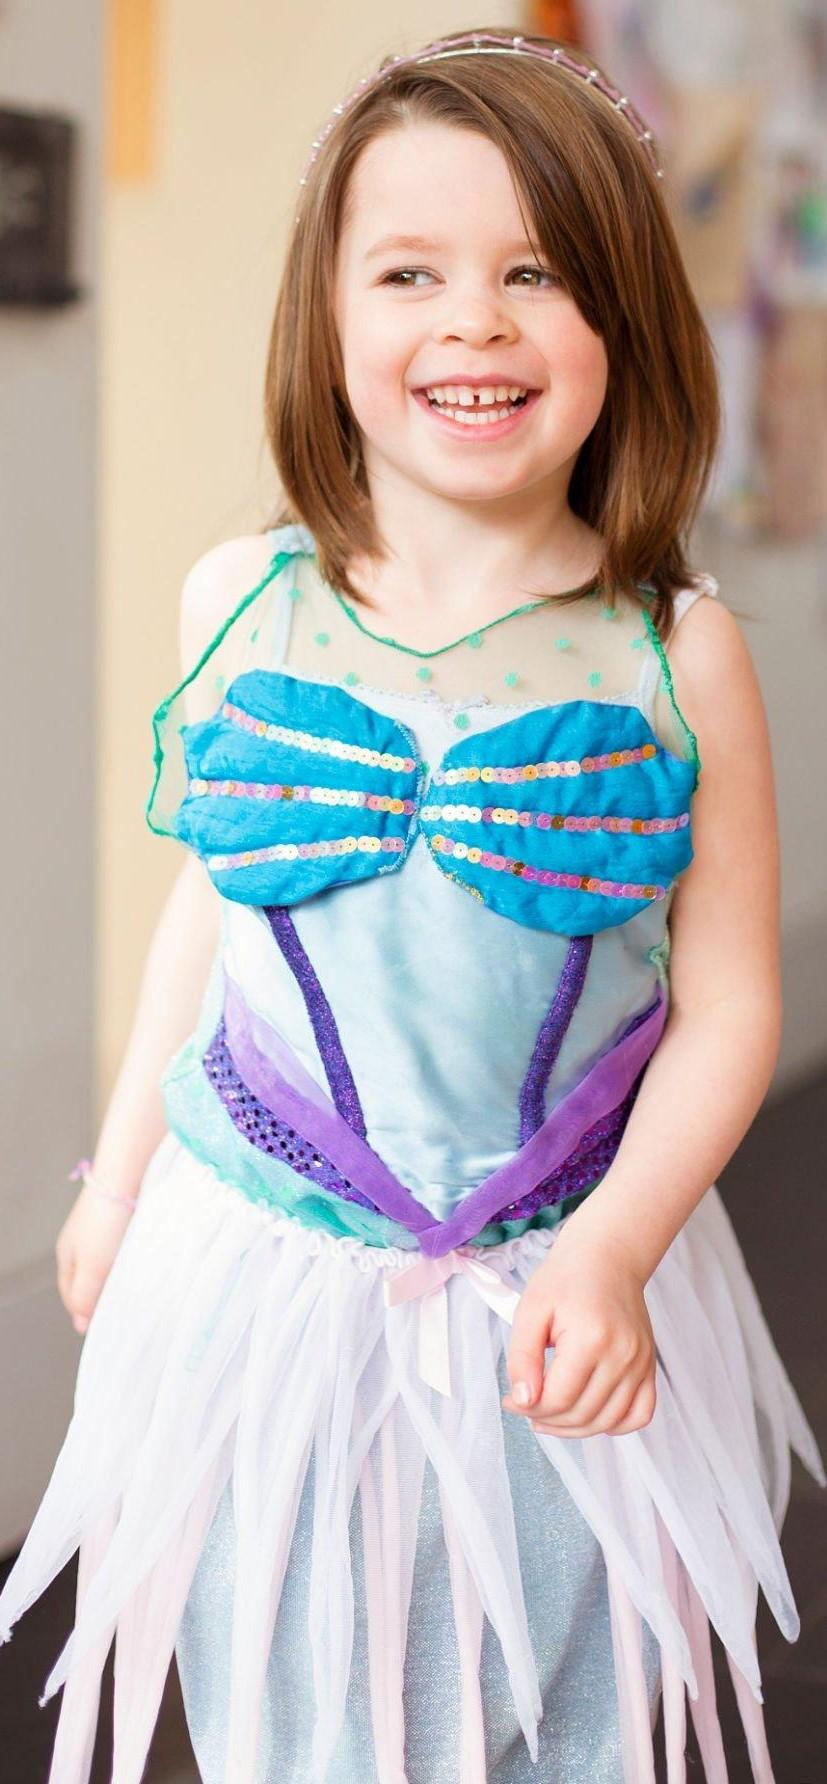Healthy: (316, 162, 662, 522)
